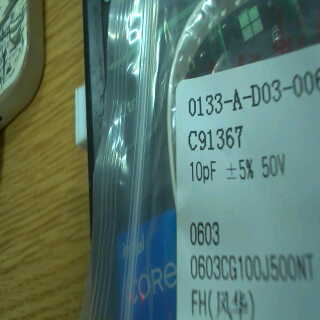10pF: (183, 154, 221, 190)
